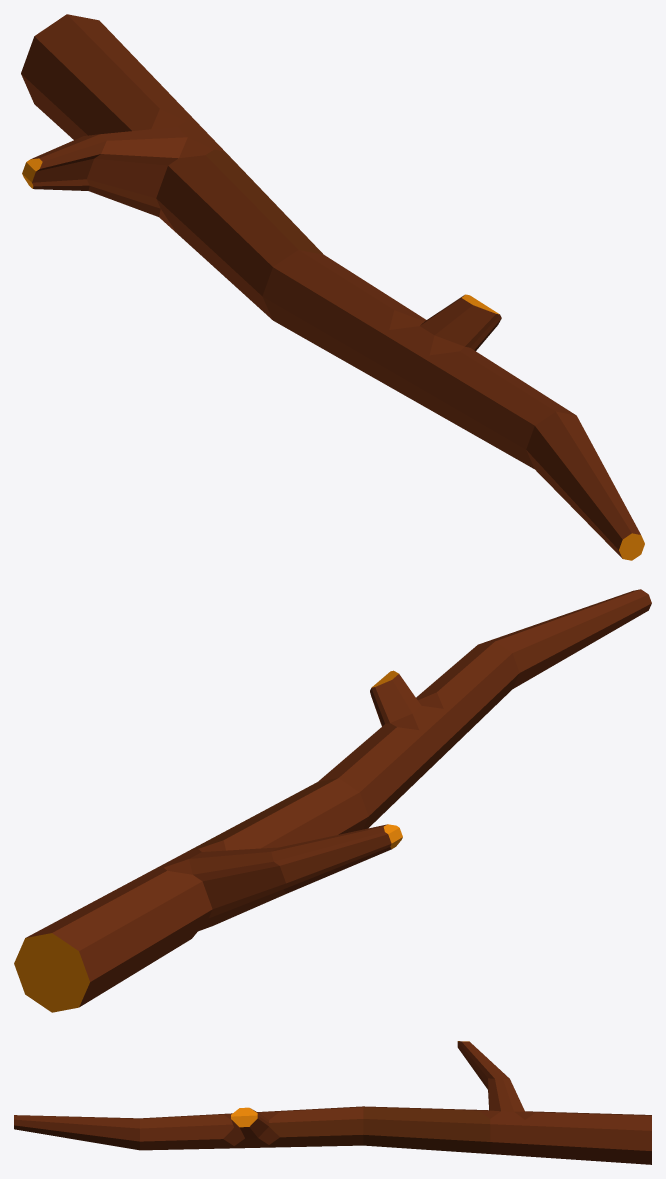
The model's file is Stick_49.fbx.
The picture shows the model from 3 angles, top to bottom: view 1: azimuth 30°, elevation 25°; view 2: azimuth 150°, elevation 25°; view 3: azimuth 270°, elevation 25°; orthographic projection. The views are drawn at different scales.
Visible parts, largest first — view 1: Circle.416; view 2: Circle.416; view 3: Circle.416.
Part boxes in pixels (<box>): Circle.416: <box>21,14,644,560</box>; Circle.416: <box>14,589,651,1012</box>; Circle.416: <box>14,1041,651,1164</box>.
Bounding box in the file's own units: 10.19 × 4.97 × 40.94.
